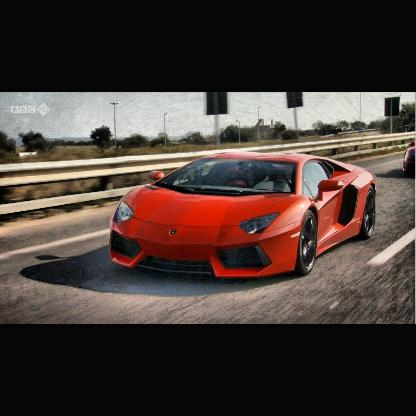Lamborghini Aventador Coupe 2012: (108, 150, 376, 283)
